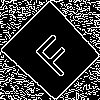F: (26, 26, 80, 80)
